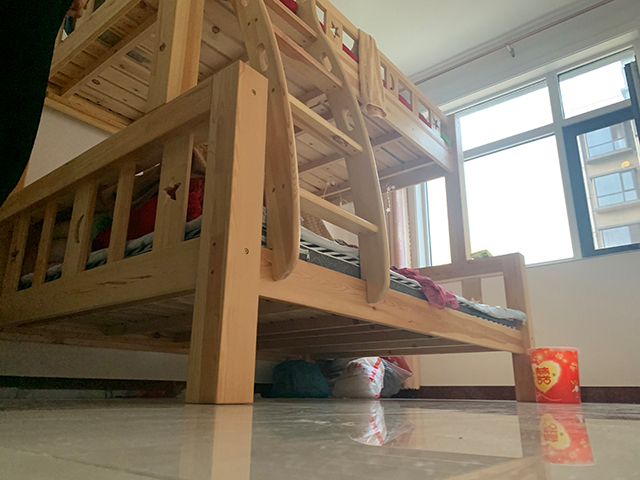bed: (1, 1, 534, 405)
curtain: (383, 187, 421, 389)
trashcan: (528, 346, 581, 405)
